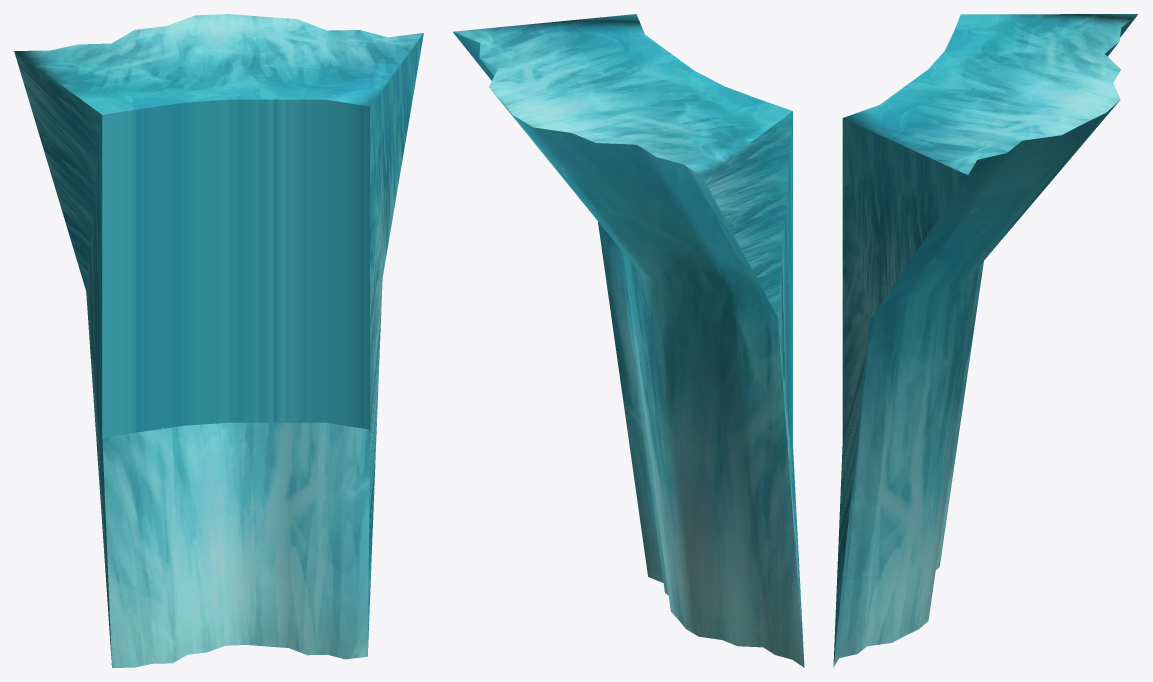
File: ic_arthas_iceshard07.obj
The picture shows the model from 3 angles, left to right: view 1: azimuth 30°, elevation 25°; view 2: azimuth 150°, elevation 25°; view 3: azimuth 270°, elevation 25°; orthographic projection. The views are drawn at different scales.
Visible parts, largest first — view 1: IC_arthas_iceshard07; view 2: IC_arthas_iceshard07; view 3: IC_arthas_iceshard07.
Boxes of the visible parts, x1,y1,x2,y2 form: IC_arthas_iceshard07: (14, 14, 423, 667); IC_arthas_iceshard07: (453, 14, 804, 667); IC_arthas_iceshard07: (833, 14, 1137, 667).
Size of the model in its own units: 51.59 by 82.47 by 41.21.
